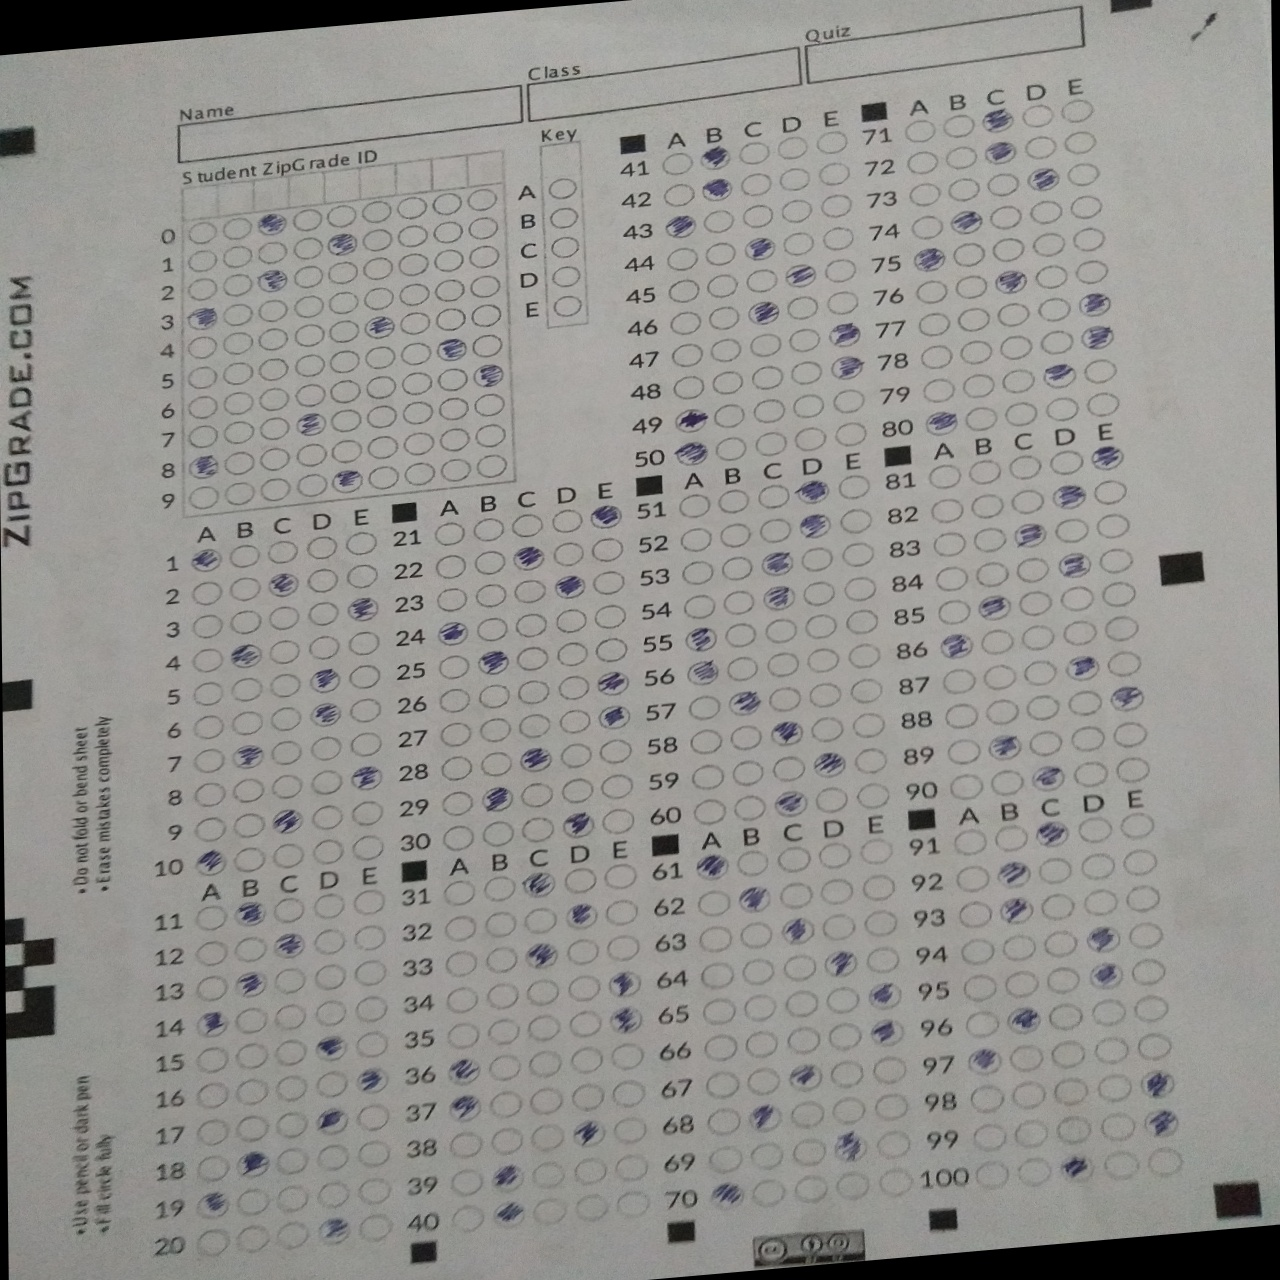not-c: (700, 1065, 743, 1102), (951, 862, 996, 896), (1051, 1110, 1092, 1148), (703, 1141, 745, 1177), (965, 1080, 1007, 1116), (1125, 918, 1170, 952), (1015, 1151, 1054, 1190), (190, 1148, 231, 1184), (1099, 1148, 1142, 1183), (1095, 1109, 1137, 1144), (1001, 965, 1043, 1000), (1128, 954, 1171, 988), (568, 1190, 613, 1223), (1035, 325, 1080, 358), (864, 941, 904, 978), (613, 1186, 655, 1220), (874, 1164, 917, 1198), (1092, 1071, 1135, 1105), (952, 896, 994, 930), (973, 1155, 1012, 1191), (969, 1118, 1008, 1155), (190, 1114, 230, 1149), (445, 1199, 485, 1234), (692, 885, 731, 920), (958, 969, 998, 1005), (1046, 961, 1085, 996), (1112, 751, 1152, 787), (527, 1121, 568, 1155), (828, 1056, 869, 1090), (1144, 1144, 1185, 1178), (1099, 611, 1141, 645), (1046, 1037, 1088, 1070), (1012, 1114, 1048, 1151), (195, 1224, 233, 1259), (695, 956, 735, 990), (1133, 1028, 1173, 1062), (1090, 1032, 1130, 1065), (1123, 881, 1163, 915), (926, 493, 966, 527), (1075, 849, 1116, 881), (915, 374, 956, 407), (527, 1159, 570, 1191), (869, 1091, 912, 1122), (874, 1125, 912, 1160), (442, 1017, 481, 1051), (445, 1165, 484, 1199), (444, 1126, 483, 1160), (790, 1135, 829, 1169), (1132, 990, 1171, 1024), (612, 1150, 652, 1183), (702, 1104, 742, 1137), (999, 930, 1039, 962), (956, 934, 996, 967), (939, 697, 979, 730), (685, 724, 726, 756), (772, 844, 813, 876), (948, 826, 990, 857), (313, 1065, 350, 1099), (232, 1111, 270, 1145), (567, 1042, 605, 1076), (818, 874, 856, 908), (825, 1019, 863, 1053), (747, 1139, 784, 1173), (833, 1167, 871, 1201), (519, 903, 558, 935), (608, 1039, 647, 1071), (525, 1047, 564, 1080), (851, 742, 890, 775), (689, 794, 728, 826), (986, 767, 1024, 799), (602, 932, 642, 964), (440, 947, 479, 979), (823, 982, 863, 1014), (1006, 1041, 1046, 1073), (945, 770, 985, 802), (958, 1008, 999, 1039), (355, 1135, 392, 1169), (1009, 1077, 1046, 1111), (352, 1027, 389, 1060), (354, 1099, 392, 1132), (688, 760, 726, 792), (750, 1176, 788, 1208), (792, 1172, 830, 1205), (274, 1144, 313, 1176), (355, 1175, 394, 1206), (438, 877, 477, 908), (611, 1114, 649, 1145), (530, 1194, 568, 1226), (781, 952, 819, 983), (700, 1032, 738, 1063), (829, 1095, 867, 1126), (1050, 1075, 1089, 1107), (1121, 845, 1159, 877), (938, 665, 976, 696), (1058, 617, 1097, 648), (1012, 553, 1050, 585), (1073, 256, 1111, 287), (840, 572, 880, 602), (971, 558, 1010, 588), (1051, 515, 1091, 545), (922, 461, 962, 491), (872, 1053, 907, 1087), (273, 1107, 309, 1139), (358, 1211, 394, 1244), (821, 910, 857, 942), (741, 989, 777, 1022), (745, 1064, 782, 1097), (183, 216, 220, 247), (272, 1071, 309, 1103), (193, 1077, 231, 1109), (565, 1008, 602, 1040), (486, 1089, 524, 1121), (486, 1124, 524, 1156), (668, 369, 706, 401), (836, 470, 873, 502), (777, 879, 815, 911), (783, 987, 821, 1019), (742, 1027, 779, 1058), (1039, 891, 1076, 922), (944, 734, 981, 765), (1028, 727, 1065, 758), (1069, 723, 1107, 755), (1099, 578, 1137, 610), (789, 1098, 828, 1129), (1064, 688, 1103, 719), (1047, 447, 1085, 477), (911, 277, 949, 307), (906, 211, 945, 241), (818, 256, 858, 285), (1092, 511, 1132, 540), (1001, 397, 1041, 427), (312, 924, 347, 956), (234, 1039, 270, 1071), (315, 1141, 350, 1173), (315, 1179, 350, 1212), (236, 1223, 272, 1254), (443, 982, 479, 1014), (486, 1051, 523, 1083), (573, 1155, 610, 1186), (751, 427, 788, 458), (855, 779, 891, 811), (1043, 926, 1080, 958), (1036, 855, 1073, 886), (994, 822, 1030, 853), (1119, 809, 1156, 840), (937, 595, 973, 627), (933, 561, 969, 593), (182, 361, 219, 392), (312, 890, 349, 920), (602, 860, 640, 891), (565, 973, 602, 1003), (525, 1012, 563, 1042), (570, 1081, 607, 1111), (750, 395, 788, 425), (832, 418, 870, 449), (815, 840, 852, 871), (695, 922, 733, 953), (1047, 1001, 1084, 1032), (1089, 998, 1126, 1028), (1076, 815, 1114, 845), (1022, 692, 1060, 722), (1107, 648, 1144, 679), (1015, 588, 1053, 619), (930, 529, 967, 559), (1091, 477, 1129, 508), (999, 366, 1036, 396), (956, 335, 994, 366), (994, 300, 1032, 331), (610, 1080, 648, 1109), (782, 294, 821, 324), (979, 662, 1017, 692), (1097, 546, 1136, 576), (193, 937, 229, 968), (273, 1035, 308, 1067), (275, 1182, 311, 1213), (483, 907, 518, 939), (844, 605, 879, 636), (702, 995, 737, 1027), (785, 1024, 821, 1056), (961, 369, 996, 401), (668, 338, 704, 368), (709, 334, 745, 365), (749, 362, 785, 393), (831, 384, 867, 415), (791, 422, 828, 452), (675, 490, 712, 520), (845, 640, 881, 670), (770, 753, 806, 783), (729, 756, 765, 787), (731, 791, 768, 822), (733, 847, 769, 878), (859, 835, 896, 865), (862, 872, 898, 903), (740, 955, 776, 986), (1082, 886, 1118, 917), (983, 695, 1020, 726), (978, 626, 1014, 656), (1009, 486, 1046, 517), (1007, 450, 1043, 481), (1033, 260, 1069, 291), (1019, 132, 1060, 159), (183, 392, 220, 421), (527, 1085, 565, 1115), (662, 243, 700, 272), (736, 920, 774, 949), (1057, 583, 1095, 612), (955, 304, 993, 333), (1035, 294, 1073, 324), (1028, 197, 1065, 226), (1058, 97, 1097, 125), (234, 1003, 267, 1036), (485, 979, 518, 1012), (234, 1185, 268, 1217), (604, 896, 638, 927), (524, 975, 558, 1007), (729, 720, 763, 751), (1114, 720, 1148, 751), (665, 309, 704, 336), (399, 368, 434, 399), (354, 993, 389, 1023), (234, 1076, 270, 1107), (274, 1219, 309, 1250), (486, 1016, 522, 1047), (1073, 760, 1108, 790), (1085, 388, 1121, 418), (990, 234, 1026, 265), (1030, 229, 1065, 259), (600, 770, 636, 799), (441, 914, 477, 944), (483, 945, 519, 974), (564, 937, 600, 966), (809, 714, 845, 743), (969, 491, 1006, 520), (966, 456, 1002, 485), (919, 340, 955, 369), (1070, 225, 1107, 254), (983, 169, 1020, 198), (945, 175, 981, 204), (939, 110, 975, 139), (658, 149, 695, 177), (849, 710, 886, 738), (862, 908, 899, 937), (274, 964, 307, 995), (816, 157, 850, 188), (1046, 392, 1080, 422), (558, 740, 593, 769), (600, 806, 635, 836), (353, 922, 388, 952), (312, 961, 347, 990), (777, 165, 812, 195), (748, 329, 783, 359), (788, 359, 823, 388), (812, 784, 847, 813), (998, 331, 1033, 360), (952, 239, 987, 268), (944, 143, 979, 172), (901, 116, 937, 145), (561, 866, 598, 894), (813, 127, 850, 155), (660, 181, 696, 209), (743, 267, 779, 295), (765, 685, 802, 713), (808, 680, 844, 708), (1019, 622, 1055, 651), (1069, 193, 1105, 222), (273, 1002, 307, 1032), (353, 958, 387, 987), (1065, 158, 1099, 188), (905, 147, 939, 176), (465, 241, 501, 270), (443, 823, 478, 851), (232, 935, 267, 964), (481, 874, 516, 903), (740, 202, 775, 230), (819, 192, 855, 220), (819, 223, 855, 251), (805, 646, 840, 674), (1023, 658, 1058, 686), (988, 202, 1023, 230), (906, 179, 941, 207), (825, 290, 862, 316), (971, 526, 1007, 553), (1084, 358, 1121, 384), (314, 996, 346, 1027), (291, 263, 324, 292), (474, 420, 506, 449), (196, 973, 229, 1002), (781, 196, 813, 225), (399, 339, 433, 367), (256, 384, 290, 413), (719, 520, 753, 549), (704, 272, 738, 300), (716, 486, 750, 515), (917, 309, 951, 338), (598, 737, 633, 764), (703, 239, 738, 266), (779, 230, 815, 257), (666, 275, 701, 302), (756, 483, 791, 510), (325, 200, 358, 229), (714, 433, 747, 461), (850, 676, 883, 704), (431, 190, 465, 217), (359, 226, 393, 253), (326, 258, 360, 285), (469, 302, 503, 329), (549, 263, 583, 290), (474, 451, 508, 478), (515, 644, 549, 670), (268, 670, 302, 697), (309, 768, 343, 795), (840, 540, 874, 567), (707, 305, 741, 332), (787, 326, 821, 353), (736, 139, 771, 165), (953, 273, 988, 299), (1062, 130, 1097, 156), (1020, 102, 1055, 128), (431, 245, 463, 273), (257, 295, 288, 324), (723, 588, 755, 617), (520, 781, 552, 809), (196, 1046, 227, 1074), (713, 400, 744, 428), (359, 197, 392, 224), (396, 250, 429, 277), (362, 285, 395, 312), (399, 309, 431, 336), (257, 355, 290, 382), (365, 343, 397, 370), (331, 437, 363, 464), (402, 430, 435, 457), (223, 418, 256, 445), (223, 479, 256, 506), (365, 402, 397, 429), (329, 406, 362, 433), (366, 374, 399, 401), (475, 549, 508, 576), (305, 535, 338, 561), (229, 608, 261, 635), (345, 563, 377, 590), (229, 576, 261, 602), (305, 566, 338, 593), (550, 508, 583, 535), (345, 530, 377, 557), (433, 520, 465, 547), (591, 568, 624, 595), (801, 545, 833, 572), (802, 580, 835, 607), (683, 592, 716, 619), (230, 675, 263, 702), (190, 646, 223, 673), (270, 738, 302, 765), (309, 734, 342, 761), (349, 730, 382, 757), (192, 745, 225, 772), (758, 517, 791, 544), (764, 617, 797, 644), (515, 610, 547, 636), (440, 720, 472, 747), (440, 790, 472, 817), (688, 694, 721, 721), (440, 755, 472, 782), (767, 651, 799, 678), (232, 846, 265, 873), (482, 819, 515, 846), (712, 369, 744, 396), (395, 195, 429, 220), (184, 334, 218, 360), (549, 234, 583, 260), (366, 464, 400, 490), (964, 406, 998, 431), (222, 215, 253, 241), (222, 241, 253, 268), (293, 234, 325, 261), (222, 300, 253, 327), (399, 281, 430, 308), (222, 359, 253, 386), (470, 332, 502, 359), (258, 445, 290, 472), (295, 441, 327, 468), (367, 433, 399, 459), (440, 425, 471, 452), (472, 392, 504, 418), (259, 414, 291, 441), (402, 399, 434, 425), (265, 539, 297, 566), (435, 553, 467, 580), (229, 542, 260, 568), (191, 612, 223, 639), (472, 516, 504, 543), (403, 461, 435, 488), (259, 474, 291, 501), (297, 471, 328, 498), (307, 599, 339, 626), (191, 579, 223, 606), (552, 542, 584, 568), (436, 586, 468, 613), (307, 633, 339, 660), (592, 536, 624, 563), (594, 602, 626, 629), (438, 654, 470, 681), (595, 636, 627, 663), (515, 577, 546, 604), (721, 554, 753, 581), (682, 558, 714, 585), (192, 679, 224, 706), (438, 687, 470, 714), (193, 712, 225, 738), (231, 709, 263, 736), (195, 779, 226, 806), (233, 776, 265, 803), (840, 508, 872, 535), (804, 612, 836, 639), (724, 621, 756, 648), (479, 716, 511, 743), (517, 712, 549, 738), (561, 776, 593, 803), (558, 707, 590, 734), (481, 750, 512, 777), (478, 682, 510, 709), (517, 678, 549, 704), (557, 674, 588, 701), (271, 842, 302, 869), (312, 838, 343, 865), (312, 804, 343, 831), (353, 888, 384, 915), (195, 904, 226, 931), (232, 812, 264, 839), (193, 815, 225, 842), (703, 207, 735, 234), (792, 392, 824, 418), (467, 188, 499, 213), (257, 239, 290, 265), (431, 219, 464, 245), (433, 278, 465, 304), (257, 326, 290, 352), (328, 348, 361, 374), (440, 456, 472, 482), (510, 512, 543, 538), (222, 450, 254, 476), (475, 617, 508, 642), (554, 640, 587, 666), (554, 607, 587, 633), (474, 583, 506, 608), (348, 697, 381, 723), (270, 706, 302, 731), (270, 772, 302, 798), (726, 655, 758, 681), (352, 835, 384, 860), (522, 816, 554, 842), (350, 799, 383, 825), (776, 135, 809, 161), (740, 171, 772, 197), (397, 222, 428, 248), (293, 292, 324, 319), (294, 321, 325, 348), (329, 377, 360, 404), (437, 366, 468, 393), (186, 246, 218, 272), (186, 275, 218, 301), (469, 273, 501, 299), (222, 331, 253, 356), (327, 318, 359, 343), (434, 306, 465, 332), (293, 352, 325, 377), (437, 395, 469, 421), (186, 423, 218, 449), (188, 484, 219, 510), (268, 604, 300, 629), (268, 638, 300, 663), (348, 662, 380, 688), (348, 629, 380, 655), (681, 526, 713, 552), (272, 897, 304, 922), (363, 254, 393, 281), (547, 173, 577, 200), (468, 215, 498, 240), (552, 292, 583, 318), (290, 207, 321, 232), (223, 390, 254, 415), (292, 382, 324, 407), (222, 272, 251, 298), (328, 290, 358, 315), (549, 205, 579, 230)
taken-c: (1141, 1104, 1182, 1141), (1005, 1001, 1046, 1036), (831, 1128, 869, 1165), (1057, 1150, 1097, 1185), (1136, 1065, 1175, 1101), (965, 1044, 1005, 1078), (1085, 959, 1126, 992), (787, 1058, 824, 1094), (747, 1099, 784, 1135), (192, 1189, 231, 1223), (735, 881, 774, 915), (822, 946, 860, 980), (1062, 652, 1102, 685), (571, 1116, 608, 1150), (1033, 817, 1071, 850), (1108, 683, 1148, 715), (998, 894, 1037, 926), (779, 913, 816, 947), (489, 1162, 526, 1194), (524, 938, 561, 971), (1085, 922, 1123, 955), (445, 1092, 484, 1124), (994, 858, 1033, 890), (867, 1015, 907, 1046), (867, 978, 903, 1012), (709, 1179, 745, 1212), (1056, 549, 1092, 581), (939, 629, 975, 662), (474, 646, 511, 678), (233, 1149, 271, 1180), (947, 205, 985, 237), (1042, 360, 1080, 392), (1050, 481, 1088, 512), (987, 731, 1024, 763), (693, 851, 731, 881), (978, 105, 1016, 136), (922, 408, 961, 438), (608, 967, 644, 1000), (798, 510, 835, 542), (772, 787, 809, 818), (315, 1216, 352, 1247), (445, 1055, 482, 1087), (976, 591, 1013, 622), (233, 969, 271, 1000), (354, 1064, 392, 1095), (490, 1198, 527, 1228), (1089, 443, 1126, 474), (1029, 763, 1067, 794), (828, 352, 866, 381), (670, 407, 710, 435), (520, 870, 556, 901), (726, 687, 762, 717), (811, 749, 847, 779), (193, 1008, 230, 1039), (313, 1034, 349, 1064), (607, 1005, 644, 1035), (745, 297, 782, 327), (1024, 164, 1061, 195), (1012, 519, 1049, 549), (1078, 324, 1117, 352), (271, 928, 305, 960), (316, 1104, 350, 1136), (588, 501, 624, 531), (518, 744, 553, 775), (481, 783, 516, 813), (561, 809, 597, 839), (564, 900, 599, 931), (663, 211, 699, 241), (1078, 287, 1114, 318), (511, 543, 547, 572), (795, 477, 831, 506), (770, 719, 806, 748), (826, 320, 863, 349), (992, 267, 1028, 297), (350, 762, 384, 792), (470, 361, 505, 390), (188, 545, 223, 574), (230, 741, 265, 770), (193, 847, 229, 877), (761, 583, 796, 612), (683, 625, 719, 654), (685, 658, 720, 687), (697, 143, 733, 172), (911, 245, 946, 274), (594, 669, 631, 697), (595, 702, 632, 730), (760, 549, 796, 577), (345, 595, 382, 622), (308, 666, 342, 695), (308, 700, 342, 729), (270, 806, 304, 836), (675, 438, 709, 468), (435, 619, 470, 647), (700, 175, 735, 203), (782, 263, 818, 290), (554, 571, 587, 600), (265, 570, 299, 598), (742, 234, 776, 263), (325, 231, 360, 258), (254, 210, 288, 237), (256, 266, 290, 293), (186, 452, 220, 479), (331, 468, 365, 495), (232, 900, 266, 927), (983, 139, 1017, 166), (185, 305, 220, 331), (293, 411, 328, 437), (227, 642, 263, 668), (435, 336, 467, 365), (363, 313, 394, 341)
